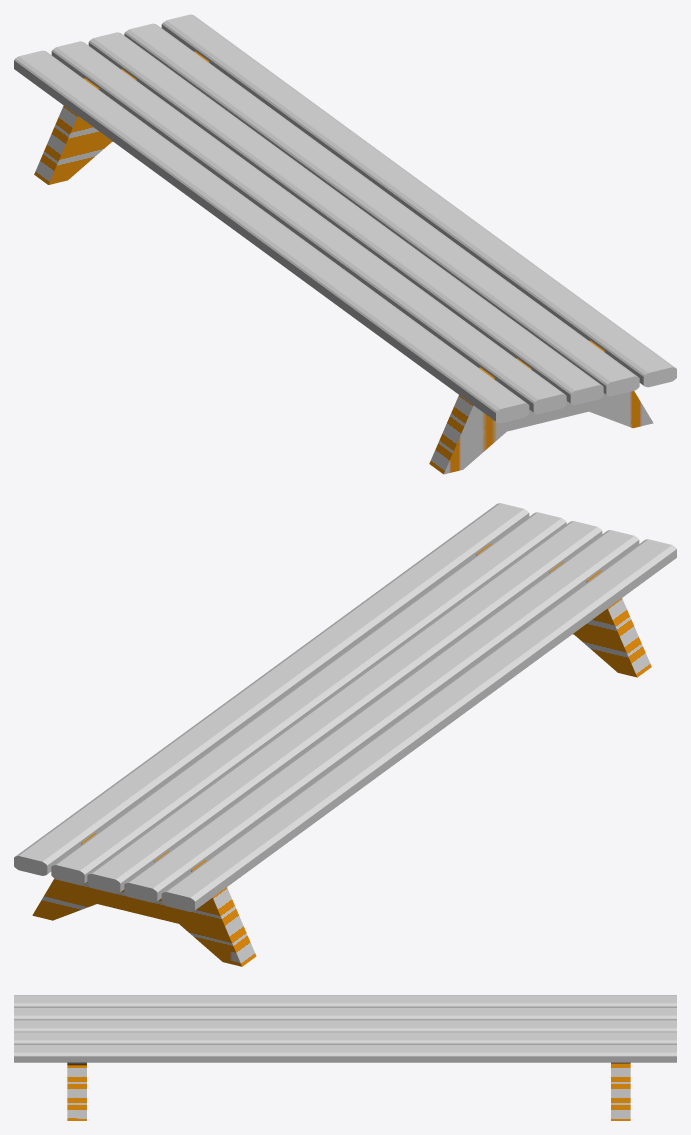
The model's file is bench_lockerroom.fbx.
3 renders of one model, top to bottom at view 1: azimuth 30°, elevation 25°; view 2: azimuth 150°, elevation 25°; view 3: azimuth 270°, elevation 25°, orthographic. The views are drawn at different scales.
Parts seen in each view (by area): view 1: Cube, Cube.002, Cube.005, Cube.003, Cube.004, Cube.001; view 2: Cube, Cube.002, Cube.005, Cube.003, Cube.004, Cube.001; view 3: Cube.005, Cube, Cube.002, Cube.004, Cube.003, Cube.001.
Boxes of the visible parts, left/top/right/bottom form: Cube: left=14, top=50, right=529, bottom=423; Cube.002: left=51, top=41, right=566, bottom=414; Cube.005: left=161, top=14, right=676, bottom=387; Cube.003: left=88, top=32, right=603, bottom=405; Cube.004: left=124, top=23, right=639, bottom=396; Cube.001: left=34, top=51, right=653, bottom=474; Cube: left=161, top=539, right=676, bottom=911; Cube.002: left=124, top=530, right=639, bottom=902; Cube.005: left=14, top=503, right=529, bottom=875; Cube.003: left=87, top=521, right=602, bottom=893; Cube.004: left=51, top=512, right=566, bottom=884; Cube.001: left=32, top=543, right=651, bottom=966; Cube.005: left=14, top=1044, right=676, bottom=1062; Cube: left=14, top=995, right=676, bottom=1007; Cube.002: left=14, top=1007, right=676, bottom=1019; Cube.004: left=14, top=1032, right=676, bottom=1044; Cube.003: left=14, top=1020, right=676, bottom=1031; Cube.001: left=67, top=1062, right=630, bottom=1120.
Size of the model in its own units: 144 by 58.39 by 571.
Materials: 1 (1 with a texture image).
